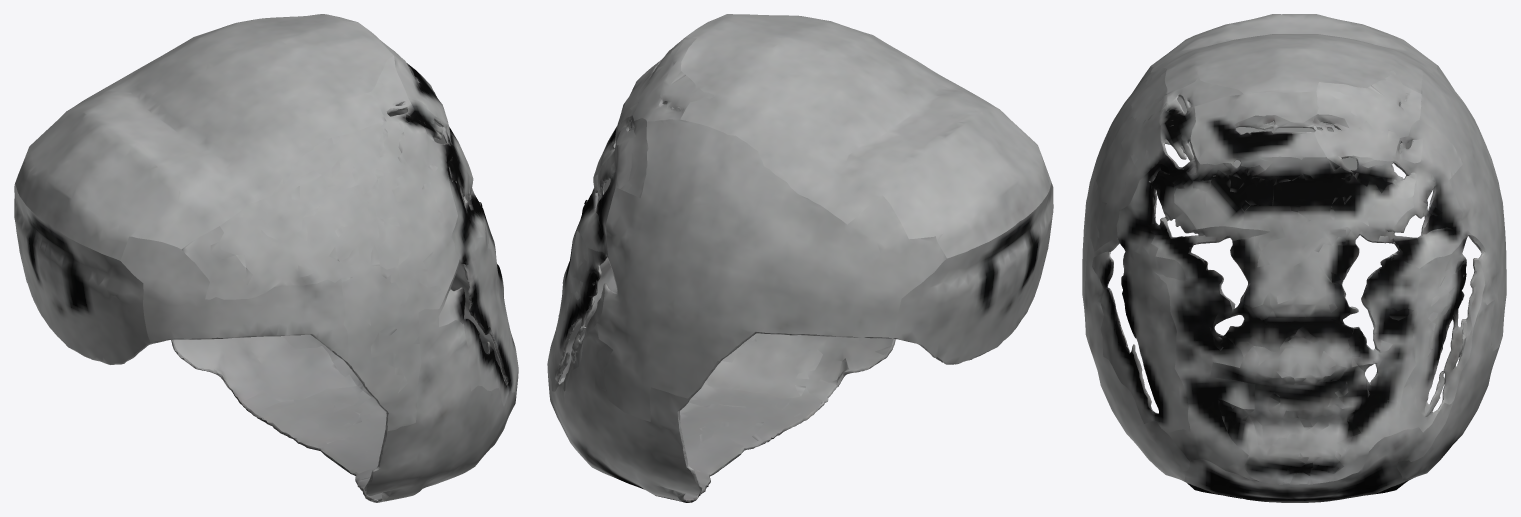
3 views of the same model, side by side, from view 1: azimuth 30°, elevation 25°; view 2: azimuth 150°, elevation 25°; view 3: azimuth 270°, elevation 25° (orthographic). The views are drawn at different scales.
Visible parts, largest first — view 1: world; view 2: world; view 3: world.
Boxes of the visible parts, <box> form: world: <box>14,14,518,502</box>; world: <box>547,14,1053,502</box>; world: <box>1082,14,1506,502</box>.
Bounding box in the file's own units: 0.12 × 0.1129 × 0.1077.
1 material, 1 textured.
